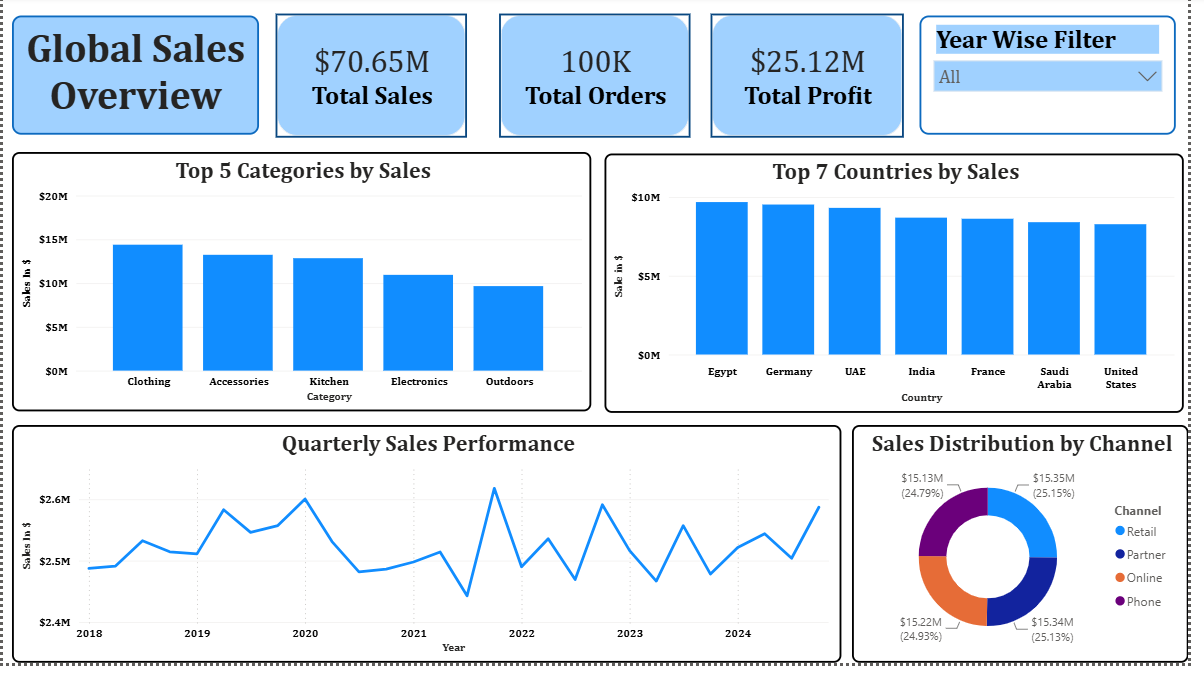

This screenshot's page, from the dashboard's own definition file:
{"tool":"powerbi","page":{"name":"Sales","canvas":[1280,720],"ordinal":0},"visuals":[{"type":"cardVisual","fields":{"Data":["My Measures.Total_Sales"]},"box":[276.7,1.7,241.7,168.3],"z":0},{"type":"cardVisual","fields":{"Data":["My Measures.Total_Profit"]},"box":[746.7,1.7,243.3,168.3],"z":1000},{"type":"cardVisual","fields":{"Data":["My Measures.Total_Order"]},"box":[518.3,1.7,241.7,168.3],"z":2000},{"type":"lineChart","title":"Quarterly Sales Performance","fields":{"Y":["My Measures.Total_Sales"],"Category":["Dates.Date.Variation.Date Hierarchy.Year","Dates.Date.Variation.Date Hierarchy.Quarter"]},"box":[10,463.3,895,256.7],"z":3000},{"type":"columnChart","title":"Top 5 Categories by Sales","fields":{"Y":["My Measures.Total_Sales"],"Category":["Products.Category"]},"box":[10,168.3,625,280],"z":4000},{"type":"donutChart","title":"Sales Distribution by Channel","fields":{"Y":["My Measures.Total_Sales"],"Category":["Sales.Channel"]},"box":[916.7,463.3,363.3,256.7],"z":5000},{"type":"columnChart","title":"Top 7 Countries by Sales","fields":{"Y":["My Measures.Total_Sales"],"Category":["Geography.Country"]},"box":[650,170,625,280],"z":6000},{"type":"slicer","fields":{"Values":["Dates.Date.Variation.Date Hierarchy.Year","Dates.Date.Variation.Date Hierarchy.Quarter"]},"box":[990,21.7,276.7,128.3],"z":7000},{"type":"textbox","box":[10,21.7,266.7,128.3],"z":8000}]}

Visuals, with their boxes in screenshot pixels (x1, y1, x2, y2), scaled from the page's 1280x720 canvas onto the 1204x673 screenshot:
cardVisual - My Measures.Total_Sales: x1=260, y1=2, x2=488, y2=159
cardVisual - My Measures.Total_Profit: x1=702, y1=2, x2=931, y2=159
cardVisual - My Measures.Total_Order: x1=488, y1=2, x2=715, y2=159
"Quarterly Sales Performance" lineChart: x1=9, y1=433, x2=851, y2=672
"Top 5 Categories by Sales" columnChart: x1=9, y1=157, x2=597, y2=419
"Sales Distribution by Channel" donutChart: x1=862, y1=433, x2=1203, y2=672
"Top 7 Countries by Sales" columnChart: x1=611, y1=159, x2=1199, y2=421
slicer - Dates.Date.Variation.Date Hierarchy.Year x Dates.Date.Variation.Date Hierarchy.Quarter: x1=931, y1=20, x2=1191, y2=140
textbox: x1=9, y1=20, x2=260, y2=140
